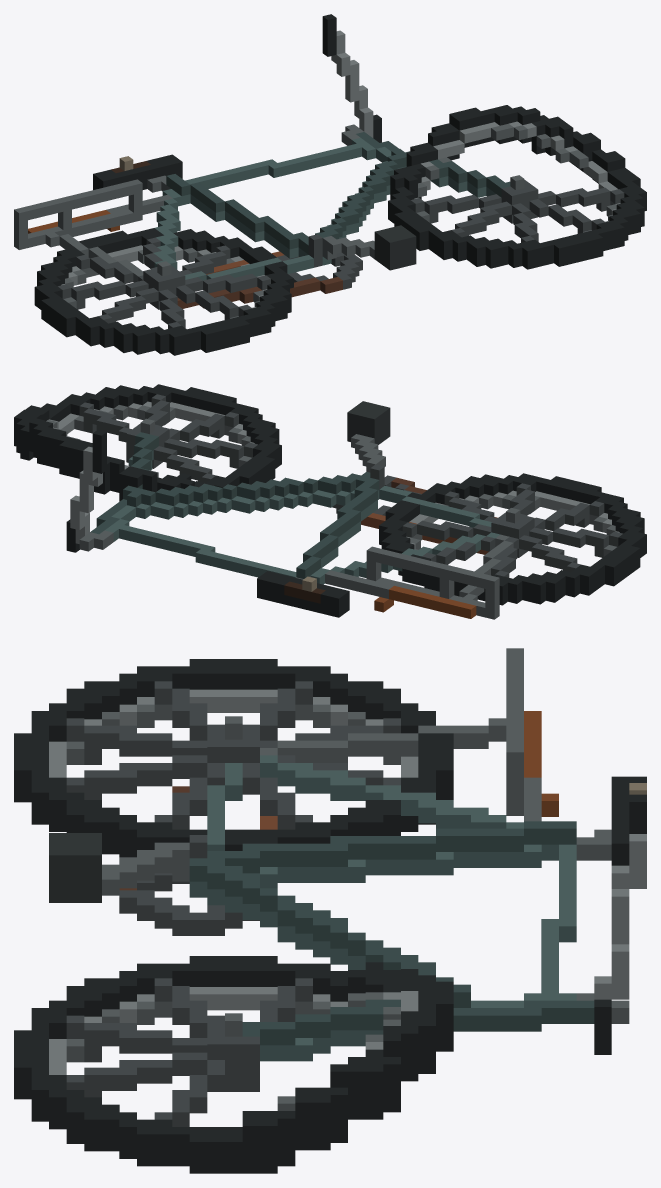
Rendered from Claude_abandoned_bicycle.glb.
3 renders of one model, top to bottom at view 1: azimuth 30°, elevation 25°; view 2: azimuth 150°, elevation 25°; view 3: azimuth 270°, elevation 25°, orthographic. The views are drawn at different scales.
Parts seen in each view (by area): view 1: Claude_abandoned_bicycle; view 2: Claude_abandoned_bicycle; view 3: Claude_abandoned_bicycle.
Boxes of the visible parts, <box> form: Claude_abandoned_bicycle: <box>14,14,646,355</box>; Claude_abandoned_bicycle: <box>14,384,646,619</box>; Claude_abandoned_bicycle: <box>14,648,646,1173</box>.
Size of the model in its own units: 1.62 by 0.35 by 0.9.
